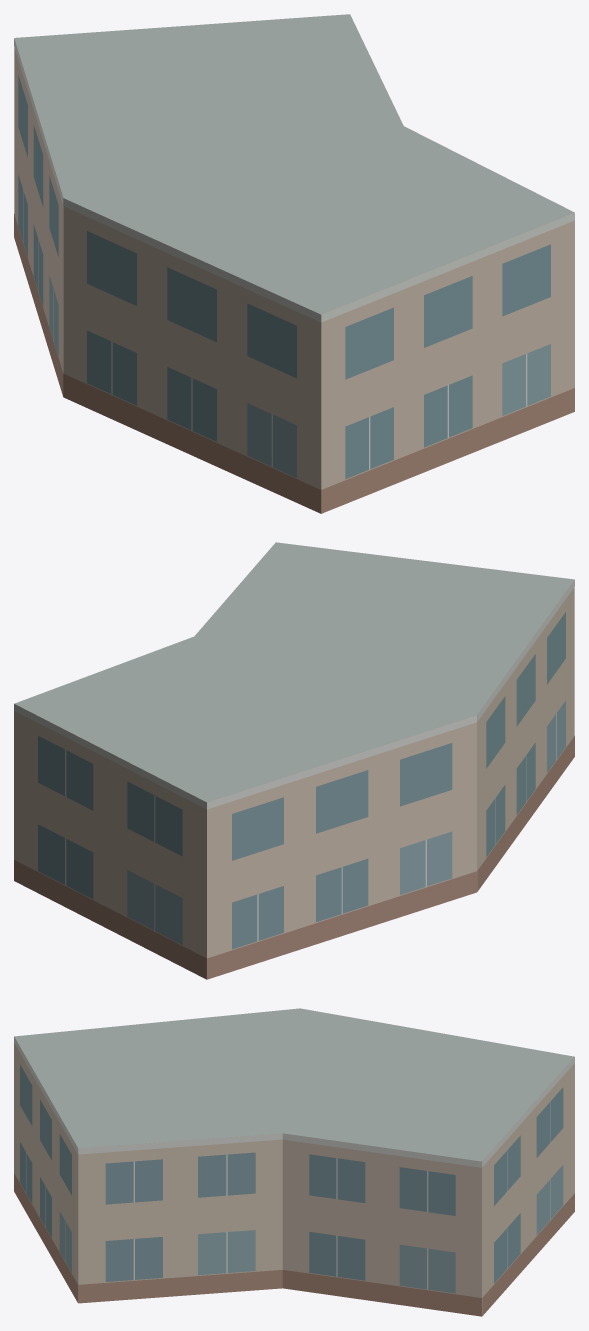
Rendered from survey-upis-32569278.glb.
3 renders of one model, top to bottom at view 1: azimuth 30°, elevation 25°; view 2: azimuth 150°, elevation 25°; view 3: azimuth 270°, elevation 25°, orthographic. The views are drawn at different scales.
Visible parts, largest first — view 1: survey-upis-32569278.tmp; view 2: survey-upis-32569278.tmp; view 3: survey-upis-32569278.tmp.
Boxes of the visible parts, x1=… form: survey-upis-32569278.tmp: x1=14, y1=14, x2=574, y2=513; survey-upis-32569278.tmp: x1=14, y1=542, x2=574, y2=979; survey-upis-32569278.tmp: x1=14, y1=1008, x2=574, y2=1316.
Bounding box in the file's own units: 12.94 × 6.1 × 20.01.
